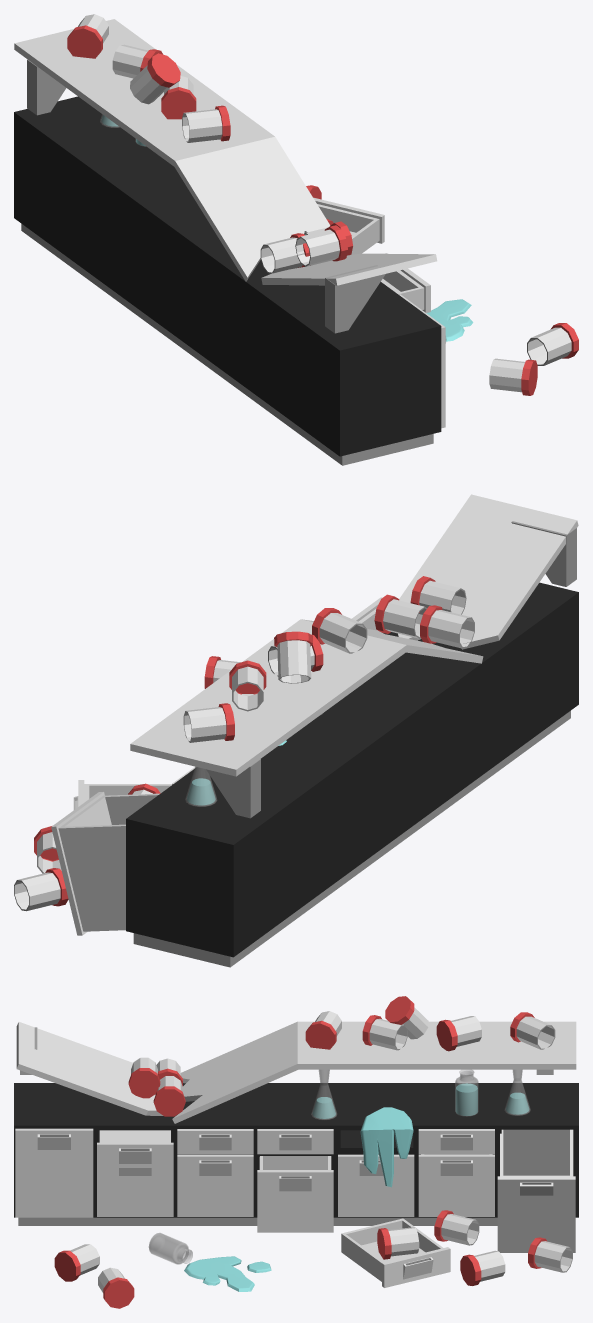
The model's file is Destroyed_science_table_002.fbx.
3 renders of one model, top to bottom at view 1: azimuth 30°, elevation 25°; view 2: azimuth 150°, elevation 25°; view 3: azimuth 270°, elevation 25°, orthographic. The views are drawn at different scales.
Parts seen in each view (by area): view 1: polySurface1316, polySurface2569, polySurface1311, polySurface1312, polySurface2568, polySurface2571, polySurface1304, polySurface2585, polySurface2572, polySurface2340, polySurface2342, polySurface2587 (+8 smaller); view 2: polySurface1316, polySurface1311, polySurface2568, polySurface1315, polySurface1312, polySurface2570, polySurface2341, polySurface2585, polySurface2590, polySurface2587, polySurface2349, polySurface2343 (+10 smaller); view 3: polySurface1316, polySurface1311, polySurface1315, polySurface1321, polySurface2568, polySurface1323, polySurface2569, polySurface1324, polySurface1313, polySurface1299, polySurface1304, polySurface1325 (+28 smaller).
Part boxes in pixels (bbox=[...]): polySurface1316: bbox=[14, 96, 441, 456]; polySurface2569: bbox=[174, 137, 330, 281]; polySurface1311: bbox=[14, 19, 274, 166]; polySurface1312: bbox=[21, 224, 433, 465]; polySurface2568: bbox=[261, 253, 437, 285]; polySurface2571: bbox=[325, 265, 385, 333]; polySurface1304: bbox=[313, 197, 384, 254]; polySurface2585: bbox=[130, 53, 180, 104]; polySurface2572: bbox=[527, 323, 578, 365]; polySurface2340: bbox=[295, 225, 347, 266]; polySurface2342: bbox=[489, 358, 537, 395]; polySurface2587: bbox=[182, 105, 230, 142]; polySurface1316: bbox=[126, 582, 578, 957]; polySurface1311: bbox=[130, 619, 406, 776]; polySurface2568: bbox=[398, 494, 578, 649]; polySurface1315: bbox=[51, 792, 159, 935]; polySurface1312: bbox=[133, 710, 570, 967]; polySurface2570: bbox=[206, 759, 260, 818]; polySurface2341: bbox=[420, 605, 474, 648]; polySurface2585: bbox=[274, 631, 312, 683]; polySurface2590: bbox=[14, 868, 68, 911]; polySurface2587: bbox=[312, 608, 367, 653]; polySurface2349: bbox=[183, 703, 234, 742]; polySurface2343: bbox=[374, 594, 427, 638]; polySurface1316: bbox=[14, 1083, 578, 1217]; polySurface1311: bbox=[297, 1021, 576, 1069]; polySurface1315: bbox=[497, 1129, 575, 1252]; polySurface1321: bbox=[15, 1128, 93, 1217]; polySurface2568: bbox=[16, 1022, 163, 1115]; polySurface1323: bbox=[257, 1156, 333, 1232]; polySurface2569: bbox=[172, 1021, 299, 1123]; polySurface1324: bbox=[177, 1154, 253, 1216]; polySurface1313: bbox=[418, 1154, 494, 1216]; polySurface1299: bbox=[338, 1154, 414, 1216]; polySurface1304: bbox=[341, 1218, 450, 1287]; polySurface1325: bbox=[97, 1168, 173, 1216].
Size of the model in its own units: 1.95 by 1.54 by 3.75.
